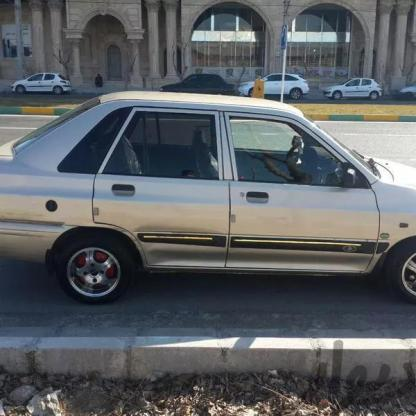Car: (0, 96, 416, 312), (152, 68, 228, 108), (236, 72, 308, 103), (320, 79, 384, 104), (10, 72, 73, 97)
